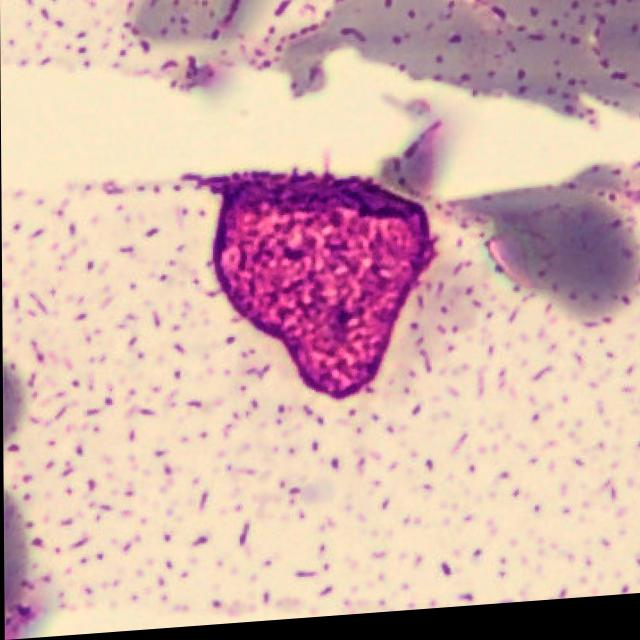Restos celulares: (205, 172, 438, 404)
